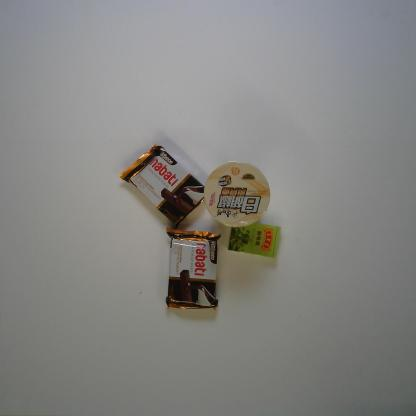Candy: (227, 220, 282, 259)
Dessert: (118, 142, 205, 230), (164, 226, 222, 312)
Instant Noodles: (203, 160, 271, 228)
